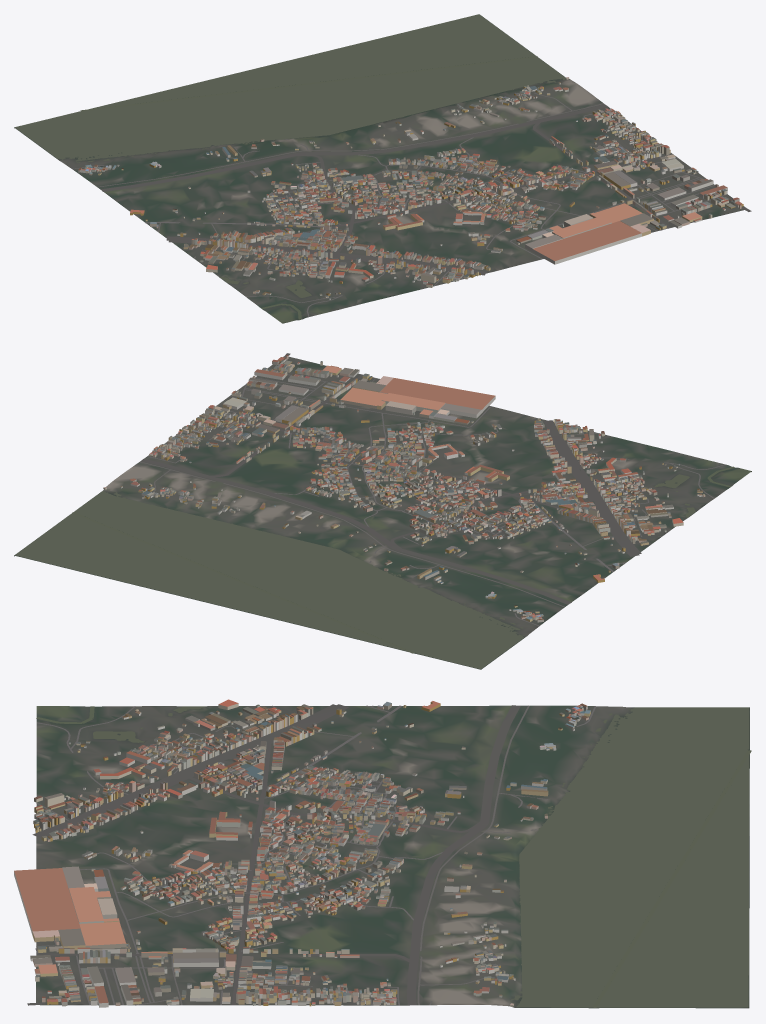
3 renders of one model, top to bottom at view 1: azimuth 30°, elevation 25°; view 2: azimuth 150°, elevation 25°; view 3: azimuth 270°, elevation 25°, orthographic. The views are drawn at different scales.
Visible parts, largest first — view 1: ground, water, buildings, roads; view 2: ground, water, buildings, roads; view 3: ground, water, buildings, roads.
Boxes of the visible parts, x1,y1,x2,y2 form: ground: [14, 15, 745, 323]; water: [15, 14, 565, 319]; buildings: [78, 77, 743, 299]; roads: [72, 91, 751, 316]; ground: [14, 356, 751, 669]; water: [15, 466, 734, 669]; buildings: [103, 355, 705, 622]; roads: [135, 353, 725, 626]; ground: [36, 705, 749, 1008]; water: [36, 706, 751, 1007]; buildings: [14, 699, 590, 1007]; roads: [27, 704, 596, 1005].
Bounding box in the file's own units: 1423 × 29.47 × 1451.
